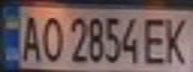2: (66, 12, 87, 64)
4: (118, 13, 142, 64)
5: (103, 13, 124, 64)
8: (84, 12, 106, 64)
A: (15, 10, 45, 63)
E: (139, 12, 172, 65)
K: (160, 12, 193, 65)
O: (36, 11, 66, 63)
